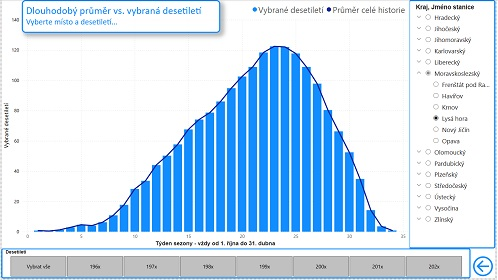

The page's visual inventory and layout, read from the dashboard file:
{"tool":"powerbi","page":{"name":"Dlouhodobé průměry Města","canvas":[1280,720],"ordinal":3},"visuals":[{"type":"slicer","fields":{"Values":["Místa.Kraj","Místa.Jméno stanice"]},"box":[1055.6,0,224.4,641.7],"z":0},{"type":"slicer","fields":{"Values":["datumy.Desetiletí"]},"box":[0,641.7,1214.6,77.8],"z":1000},{"type":"lineStackedColumnComboChart","fields":{"Category":["datumy.Týden sezony"],"Y":["Výpočty.Pokrývka"],"Y2":["Výpočty.PokryvNoFilter"]},"box":[0,0,1056.8,641.9],"z":2000},{"type":"actionButton","box":[1214.8,655.6,65.2,64.2],"z":3000},{"type":"textbox","box":[52.7,0,513.5,85.3],"z":4000}]}

Visuals, with their boxes in screenshot pixels (x1, y1, x2, y2), scaled from the page's 1280x720 canvas onto the 498x280 screenshot:
slicer - Místa.Kraj x Místa.Jméno stanice: Rect(411, 0, 497, 250)
slicer - datumy.Desetiletí: Rect(0, 250, 473, 279)
lineStackedColumnComboChart - datumy.Týden sezony x Výpočty.Pokrývka: Rect(0, 0, 411, 250)
actionButton: Rect(473, 255, 497, 279)
textbox: Rect(21, 0, 220, 33)
